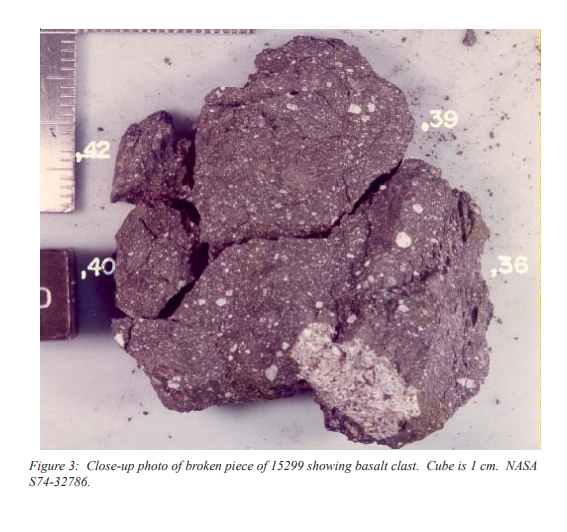Breccia: (66, 34, 507, 450)
